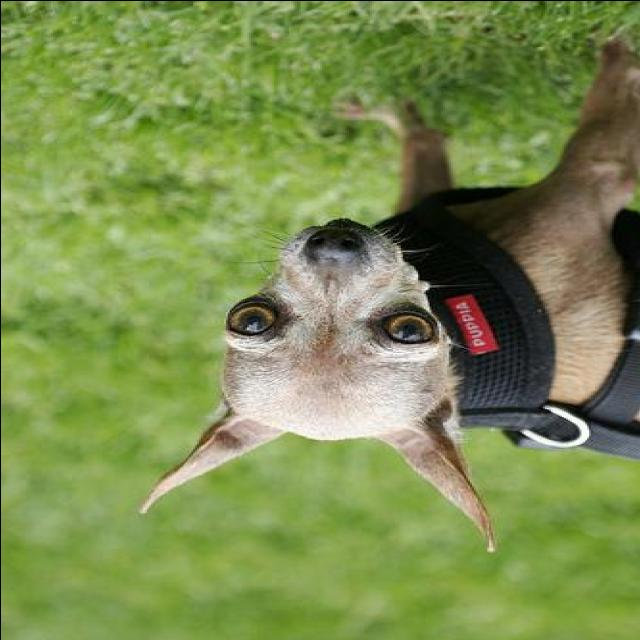chihuahua: (133, 39, 640, 556)
